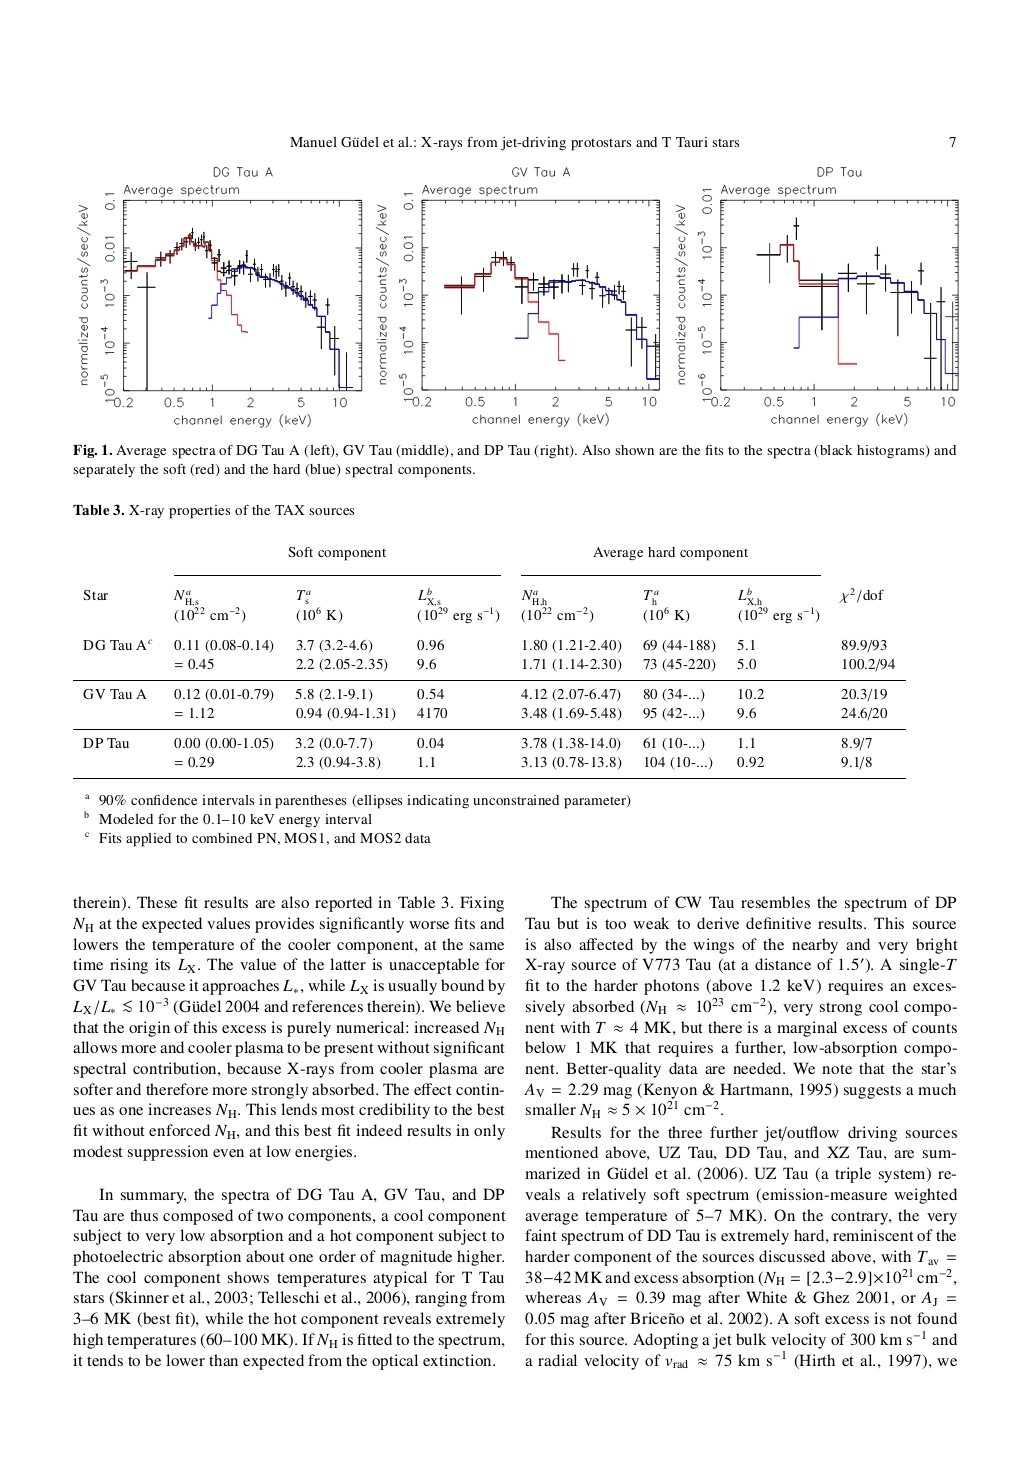Table: (73, 545, 905, 777)
figure: (77, 185, 362, 427), (375, 185, 659, 426), (674, 185, 958, 426)
